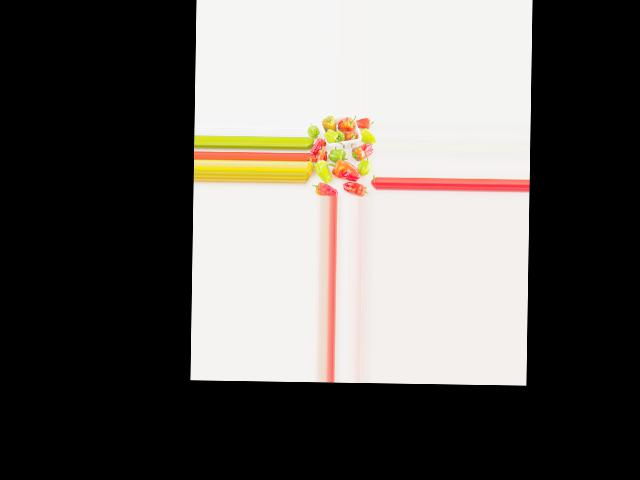bell_pepper: (311, 180, 334, 196)
